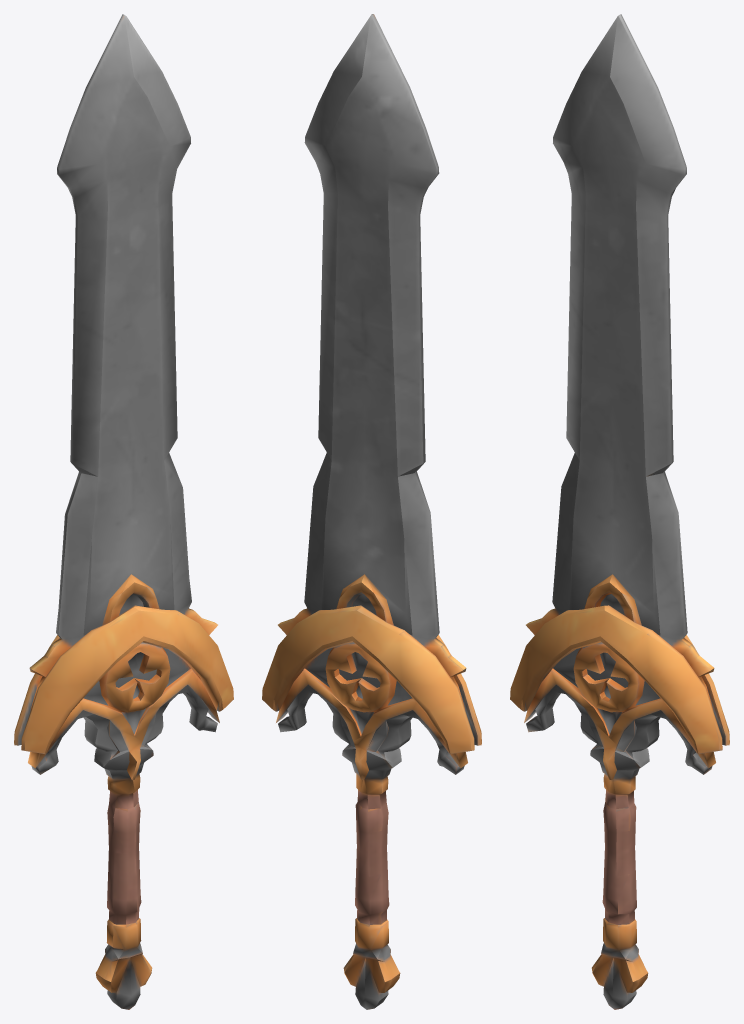
File: weapon_greatsword_b.glb
3 renders of one model, left to right at view 1: azimuth 30°, elevation 25°; view 2: azimuth 150°, elevation 25°; view 3: azimuth 330°, elevation 25°, orthographic.
Parts seen in each view (by area): view 1: SM_Greatsword; view 2: SM_Greatsword; view 3: SM_Greatsword.
Part boxes in pixels (left/top/right/bottom): SM_Greatsword: left=14, top=14, right=233, bottom=1009; SM_Greatsword: left=262, top=14, right=481, bottom=1009; SM_Greatsword: left=510, top=14, right=729, bottom=1009.
Size of the model in its own units: 0.345 by 1.54 by 0.1191.
1 material, 1 textured.
